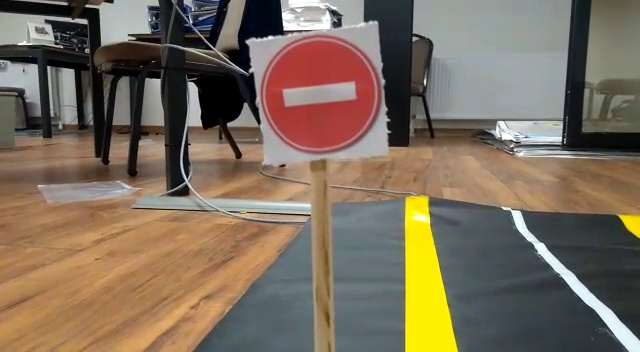girisi_olmayan_yol: (254, 30, 382, 157)
